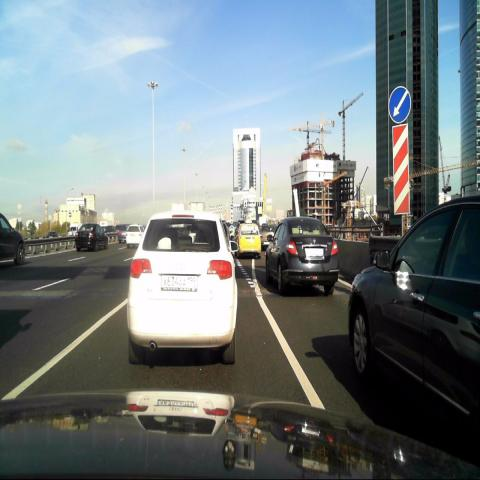4_2_2: (388, 83, 410, 125)
